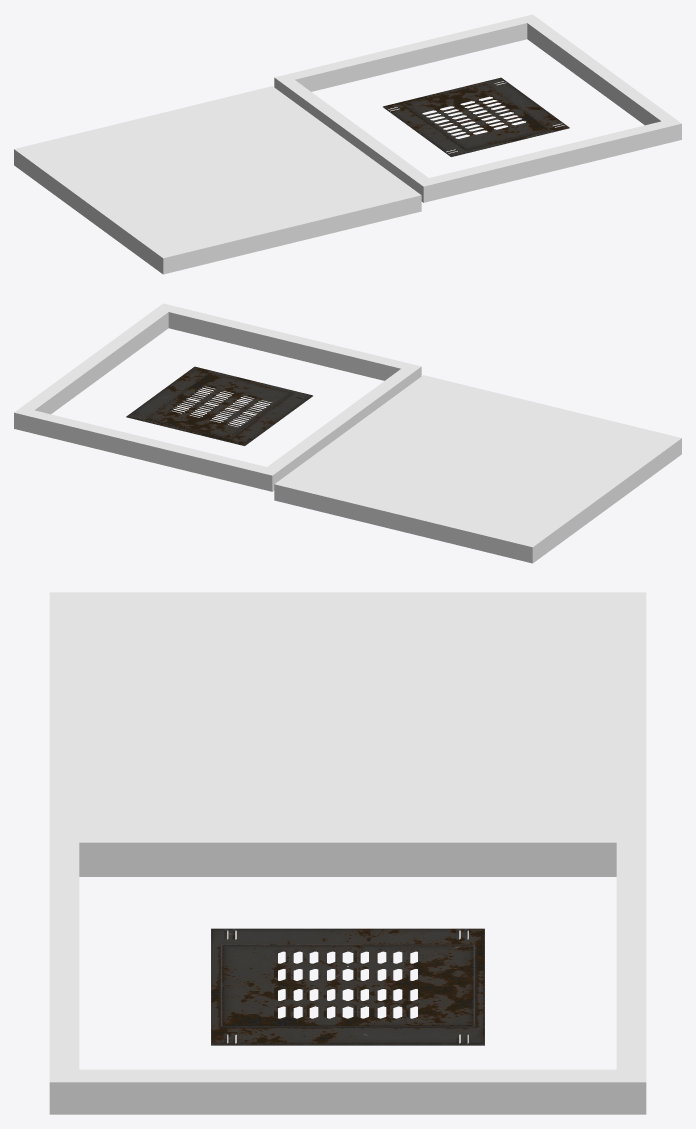
File: ModularRoomGrillFrameIssue.fbx
3 renders of one model, top to bottom at view 1: azimuth 30°, elevation 25°; view 2: azimuth 150°, elevation 25°; view 3: azimuth 270°, elevation 25°, orthographic. The views are drawn at different scales.
Parts seen in each view (by area): view 1: Floor, FloorFrame, Grill; view 2: Floor, FloorFrame, Grill; view 3: Floor, FloorFrame, Grill.
Part boxes in pixels (bbox=[...]): Floor: bbox=[14, 86, 421, 274]; FloorFrame: bbox=[274, 14, 681, 202]; Grill: bbox=[383, 77, 569, 156]; Floor: bbox=[274, 375, 681, 563]; FloorFrame: bbox=[14, 303, 421, 491]; Grill: bbox=[126, 366, 312, 445]; Floor: bbox=[49, 592, 646, 876]; FloorFrame: bbox=[49, 830, 646, 1114]; Grill: bbox=[211, 928, 484, 1045].
Bounding box in the file's own units: 803 × 36 × 400.
